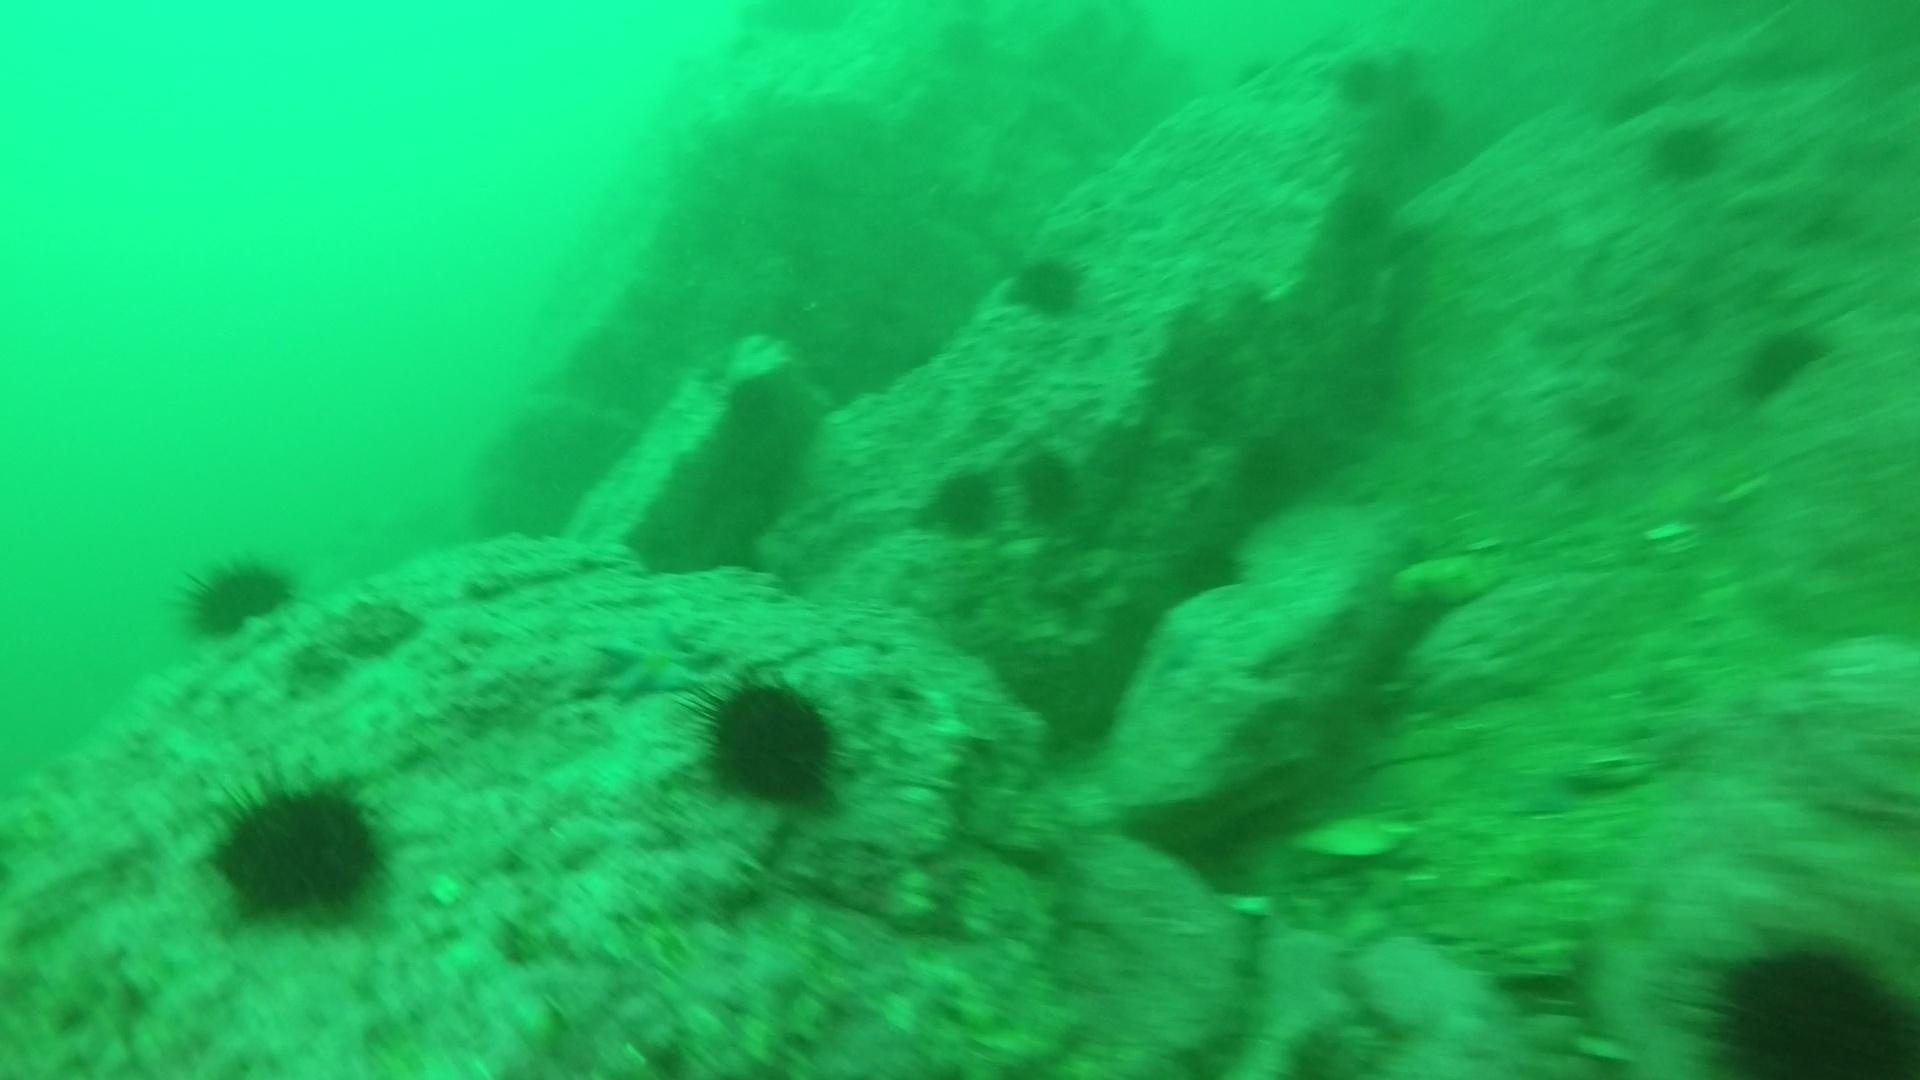echinus: (199, 764, 398, 931), (1691, 927, 1917, 1073), (686, 665, 851, 814), (173, 547, 301, 644), (1731, 316, 1836, 406), (915, 462, 1007, 545), (1004, 247, 1095, 324), (1642, 109, 1733, 187), (1011, 443, 1087, 529), (1325, 44, 1415, 115)
starfish: (591, 616, 713, 707)
